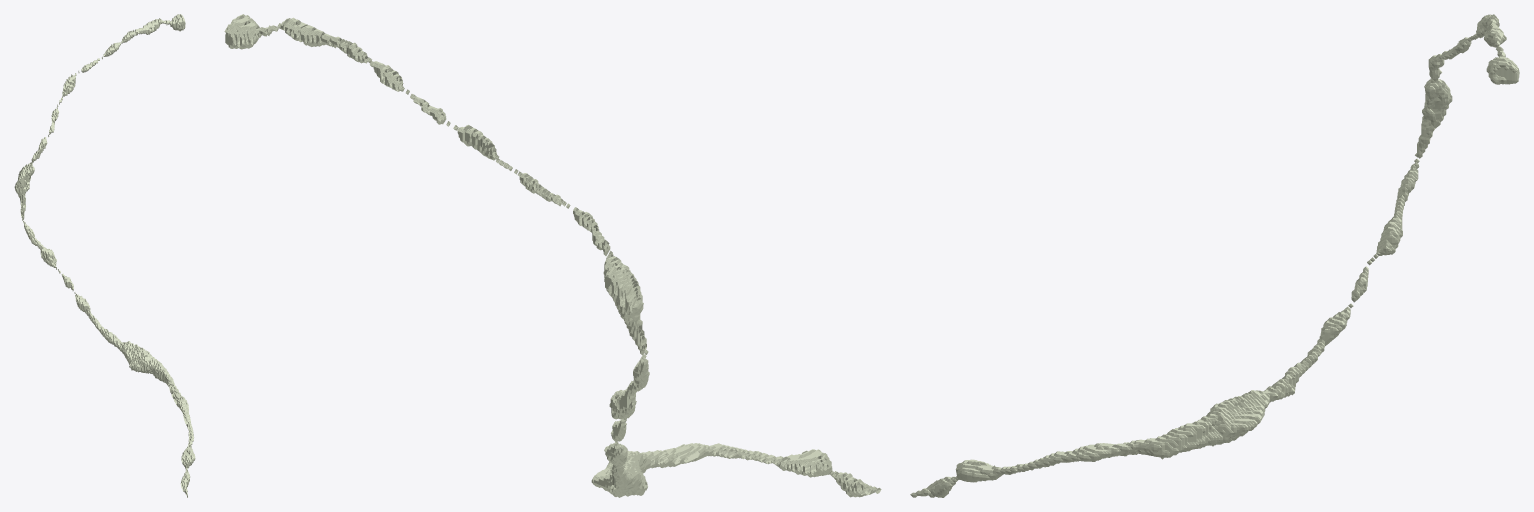
Rendered from SVV_ADFL.gltf.
The picture shows the model from 3 angles, left to right: view 1: azimuth 30°, elevation 25°; view 2: azimuth 150°, elevation 25°; view 3: azimuth 270°, elevation 25°; orthographic projection. The views are drawn at different scales.
Visible parts, largest first — view 1: ADFL; view 2: ADFL; view 3: ADFL.
Part boxes in pixels (x1=…): ADFL: x1=14, y1=14, x2=195, y2=497; ADFL: x1=224, y1=14, x2=881, y2=497; ADFL: x1=910, y1=14, x2=1519, y2=497.
Size of the model in its own units: 93367 by 155005 by 147206.
